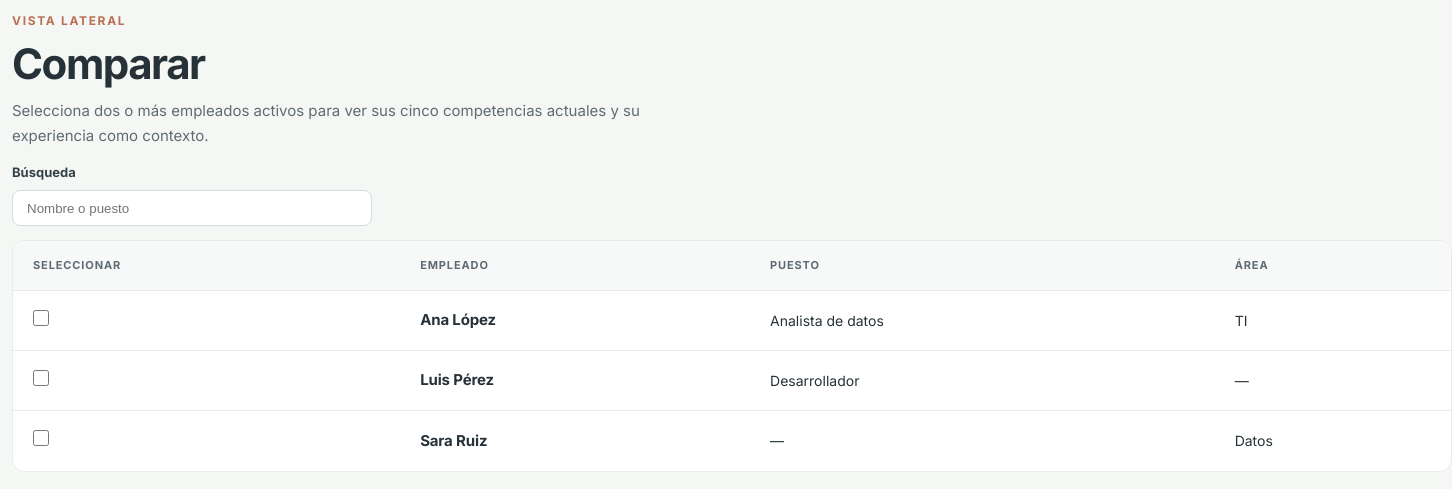
it: Comparar — selección (paso 1) › catálogo vacío por búsqueda muestra vacío diferenciado
Expected: the column heading "Ana López" is shown, [400,290,750,350]
Type "noexiste" into the search field at (192, 208), box [12,190,372,226]
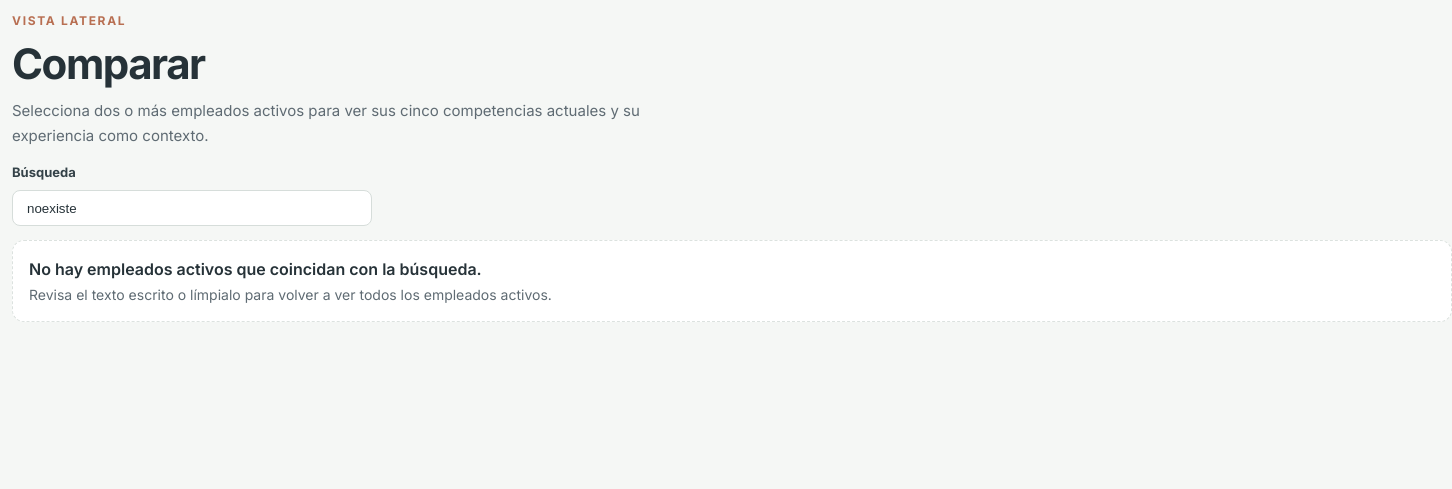
Expected: the text "No hay empleados activos que coincidan con la búsqueda." is shown, [29,259,482,279]
